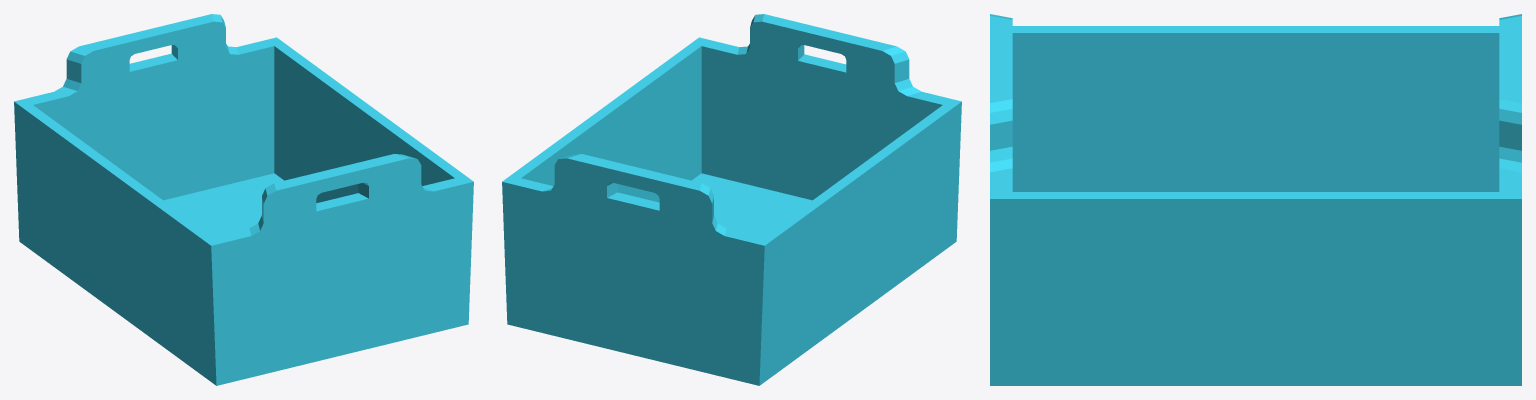
Rendered from mavikutu.fbx.
3 views of the same model, side by side, from view 1: azimuth 30°, elevation 25°; view 2: azimuth 150°, elevation 25°; view 3: azimuth 270°, elevation 25° (orthographic). The views are drawn at different scales.
Parts seen in each view (by area): view 1: Cube.027; view 2: Cube.027; view 3: Cube.027.
Part boxes in pixels (x1=…): Cube.027: x1=14, y1=14, x2=473, y2=385; Cube.027: x1=502, y1=14, x2=961, y2=385; Cube.027: x1=990, y1=14, x2=1521, y2=385.
Bounding box in the file's own units: 115 × 150 × 75.64.
